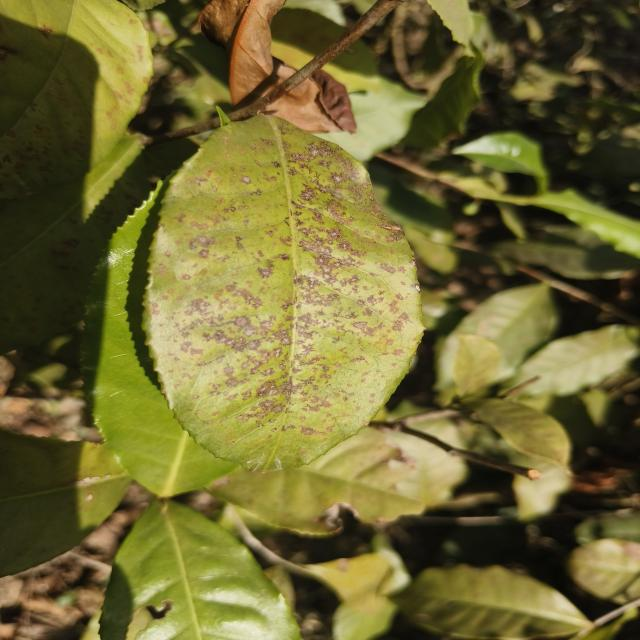Leaf: (144, 116, 419, 469), (82, 181, 236, 497), (0, 135, 173, 354), (0, 0, 152, 200), (100, 500, 300, 640), (211, 427, 467, 535), (0, 429, 131, 576), (395, 564, 591, 640), (436, 283, 558, 390), (494, 189, 640, 258), (511, 324, 640, 396), (467, 399, 570, 467), (452, 132, 548, 190), (303, 553, 391, 610), (568, 538, 640, 604), (453, 334, 501, 398)
